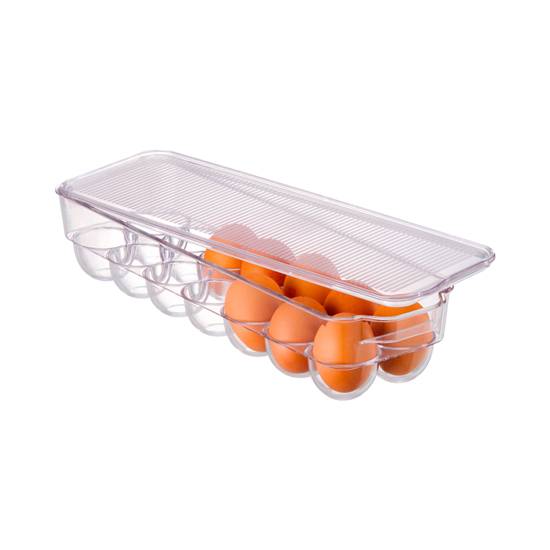egg: (203, 225, 435, 389)
